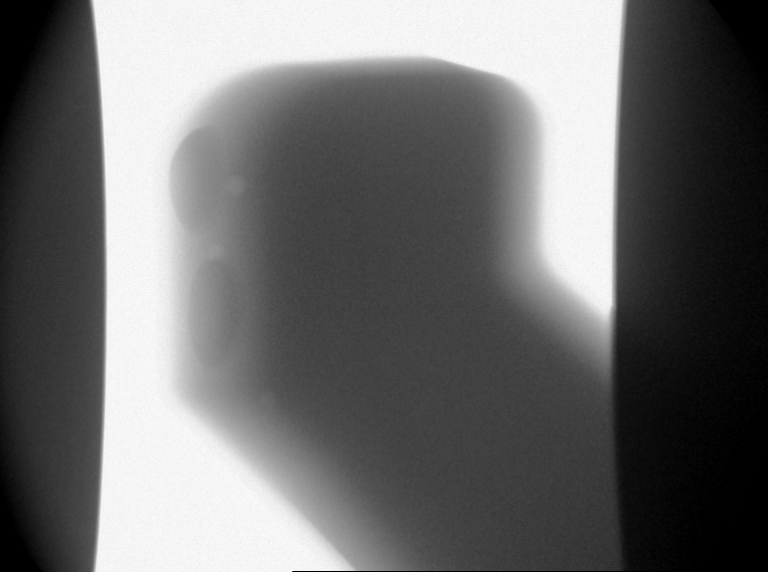defect: (255, 385, 282, 415)
